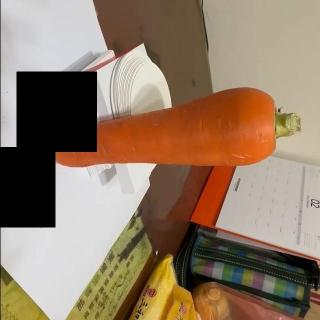carrot: (50, 86, 300, 172)
